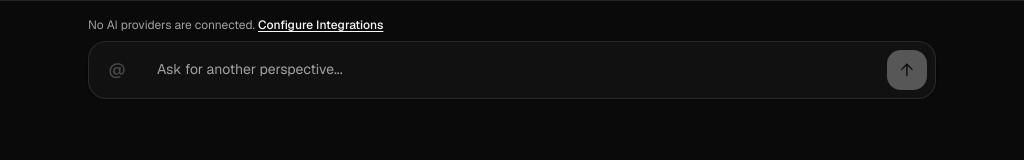
Test: shows actionable setup guidance while keeping human-only send enabled
This screenshot has width=1024, height=160.
Expected: the text "No AI providers are connected. Configure Integrations" is shown, [88,17,383,33]
In the dropdown with placeholder "Ask for another perspective...": (512, 70) [145,50,879,90], type "Hello humans"
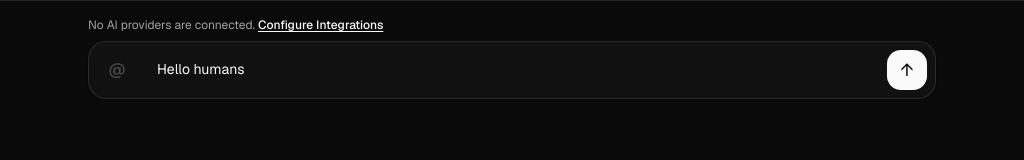
Expected: the button named "Send message" is enabled, [887,50,927,90]
